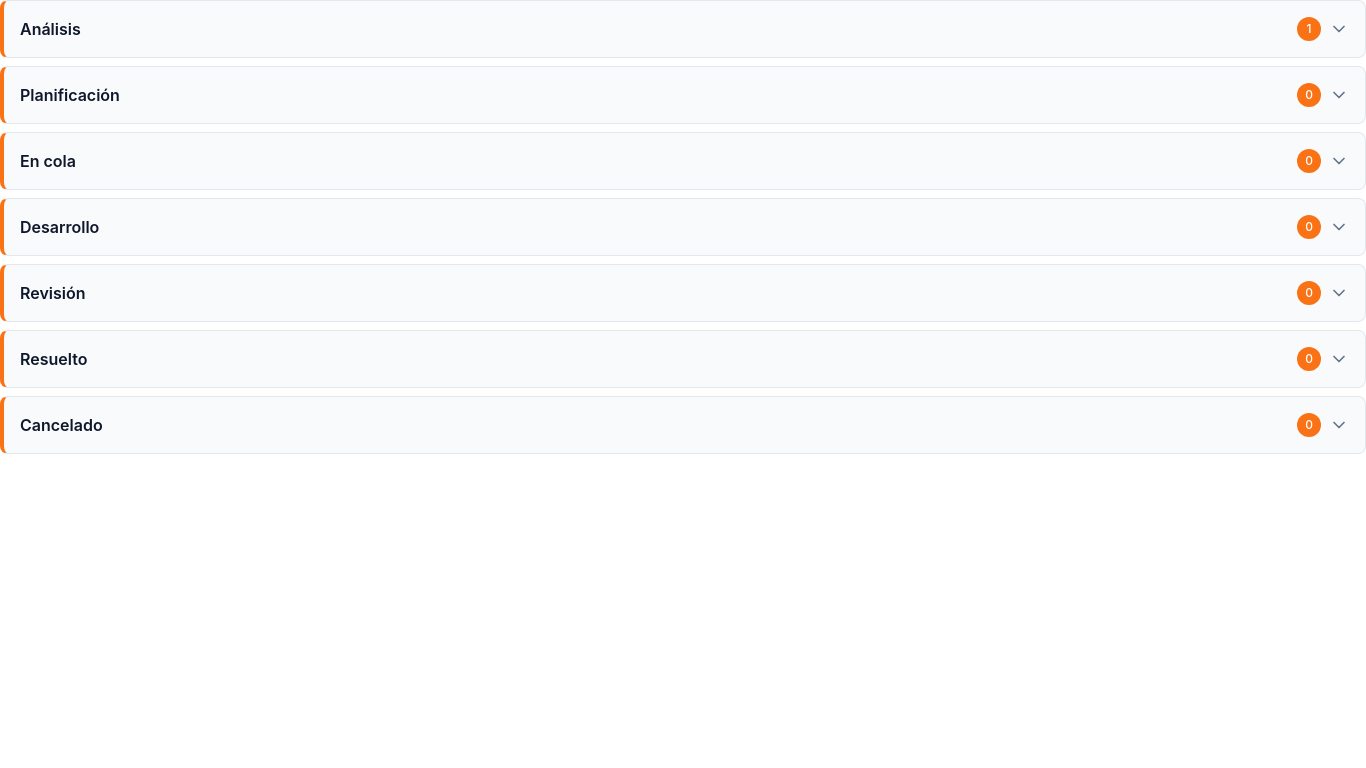
MobileRequirementsBoard › TS-17: la card de mobile no muestra autor ni la marca de identidad automática
Los acordeones arrancan colapsados: sin el click el test pasaria por la razon equivocada.
Click the button "Análisis 1" at (50, 29), box left=20, top=17, right=1349, bottom=41
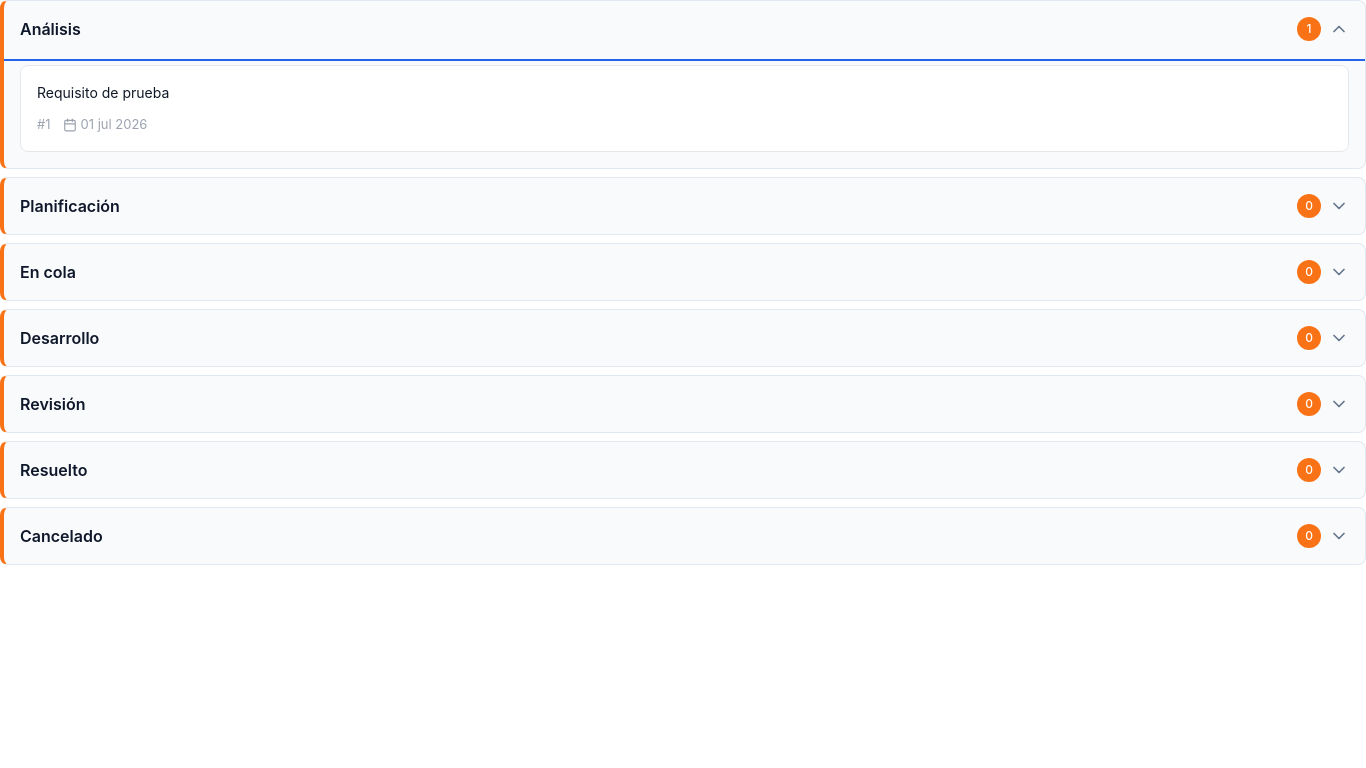
Expected: the heading "Requisito de prueba" is shown, left=37, top=84, right=169, bottom=101
